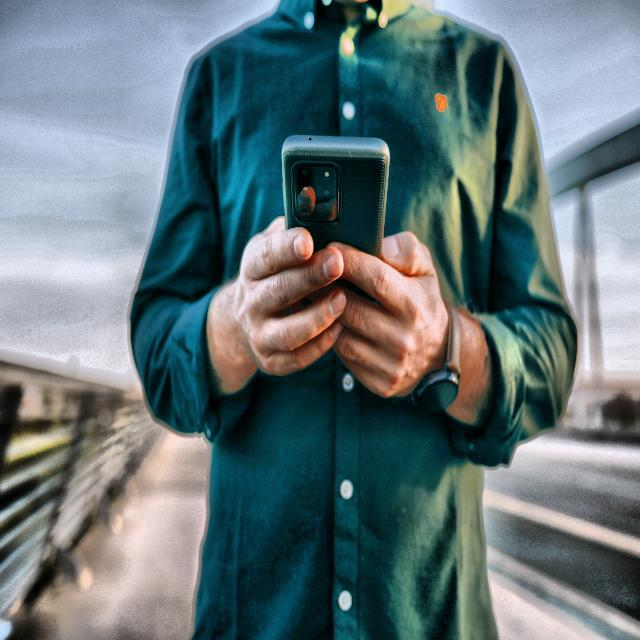Phone: (282, 134, 390, 263)
